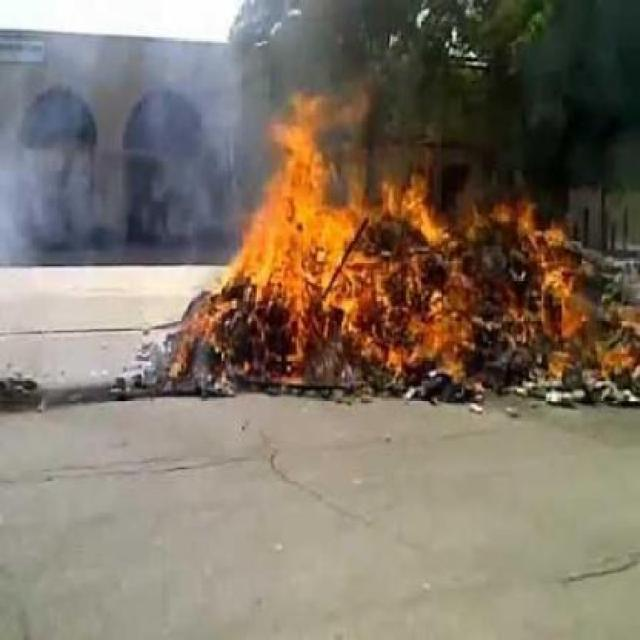Fire: (123, 63, 632, 420)
